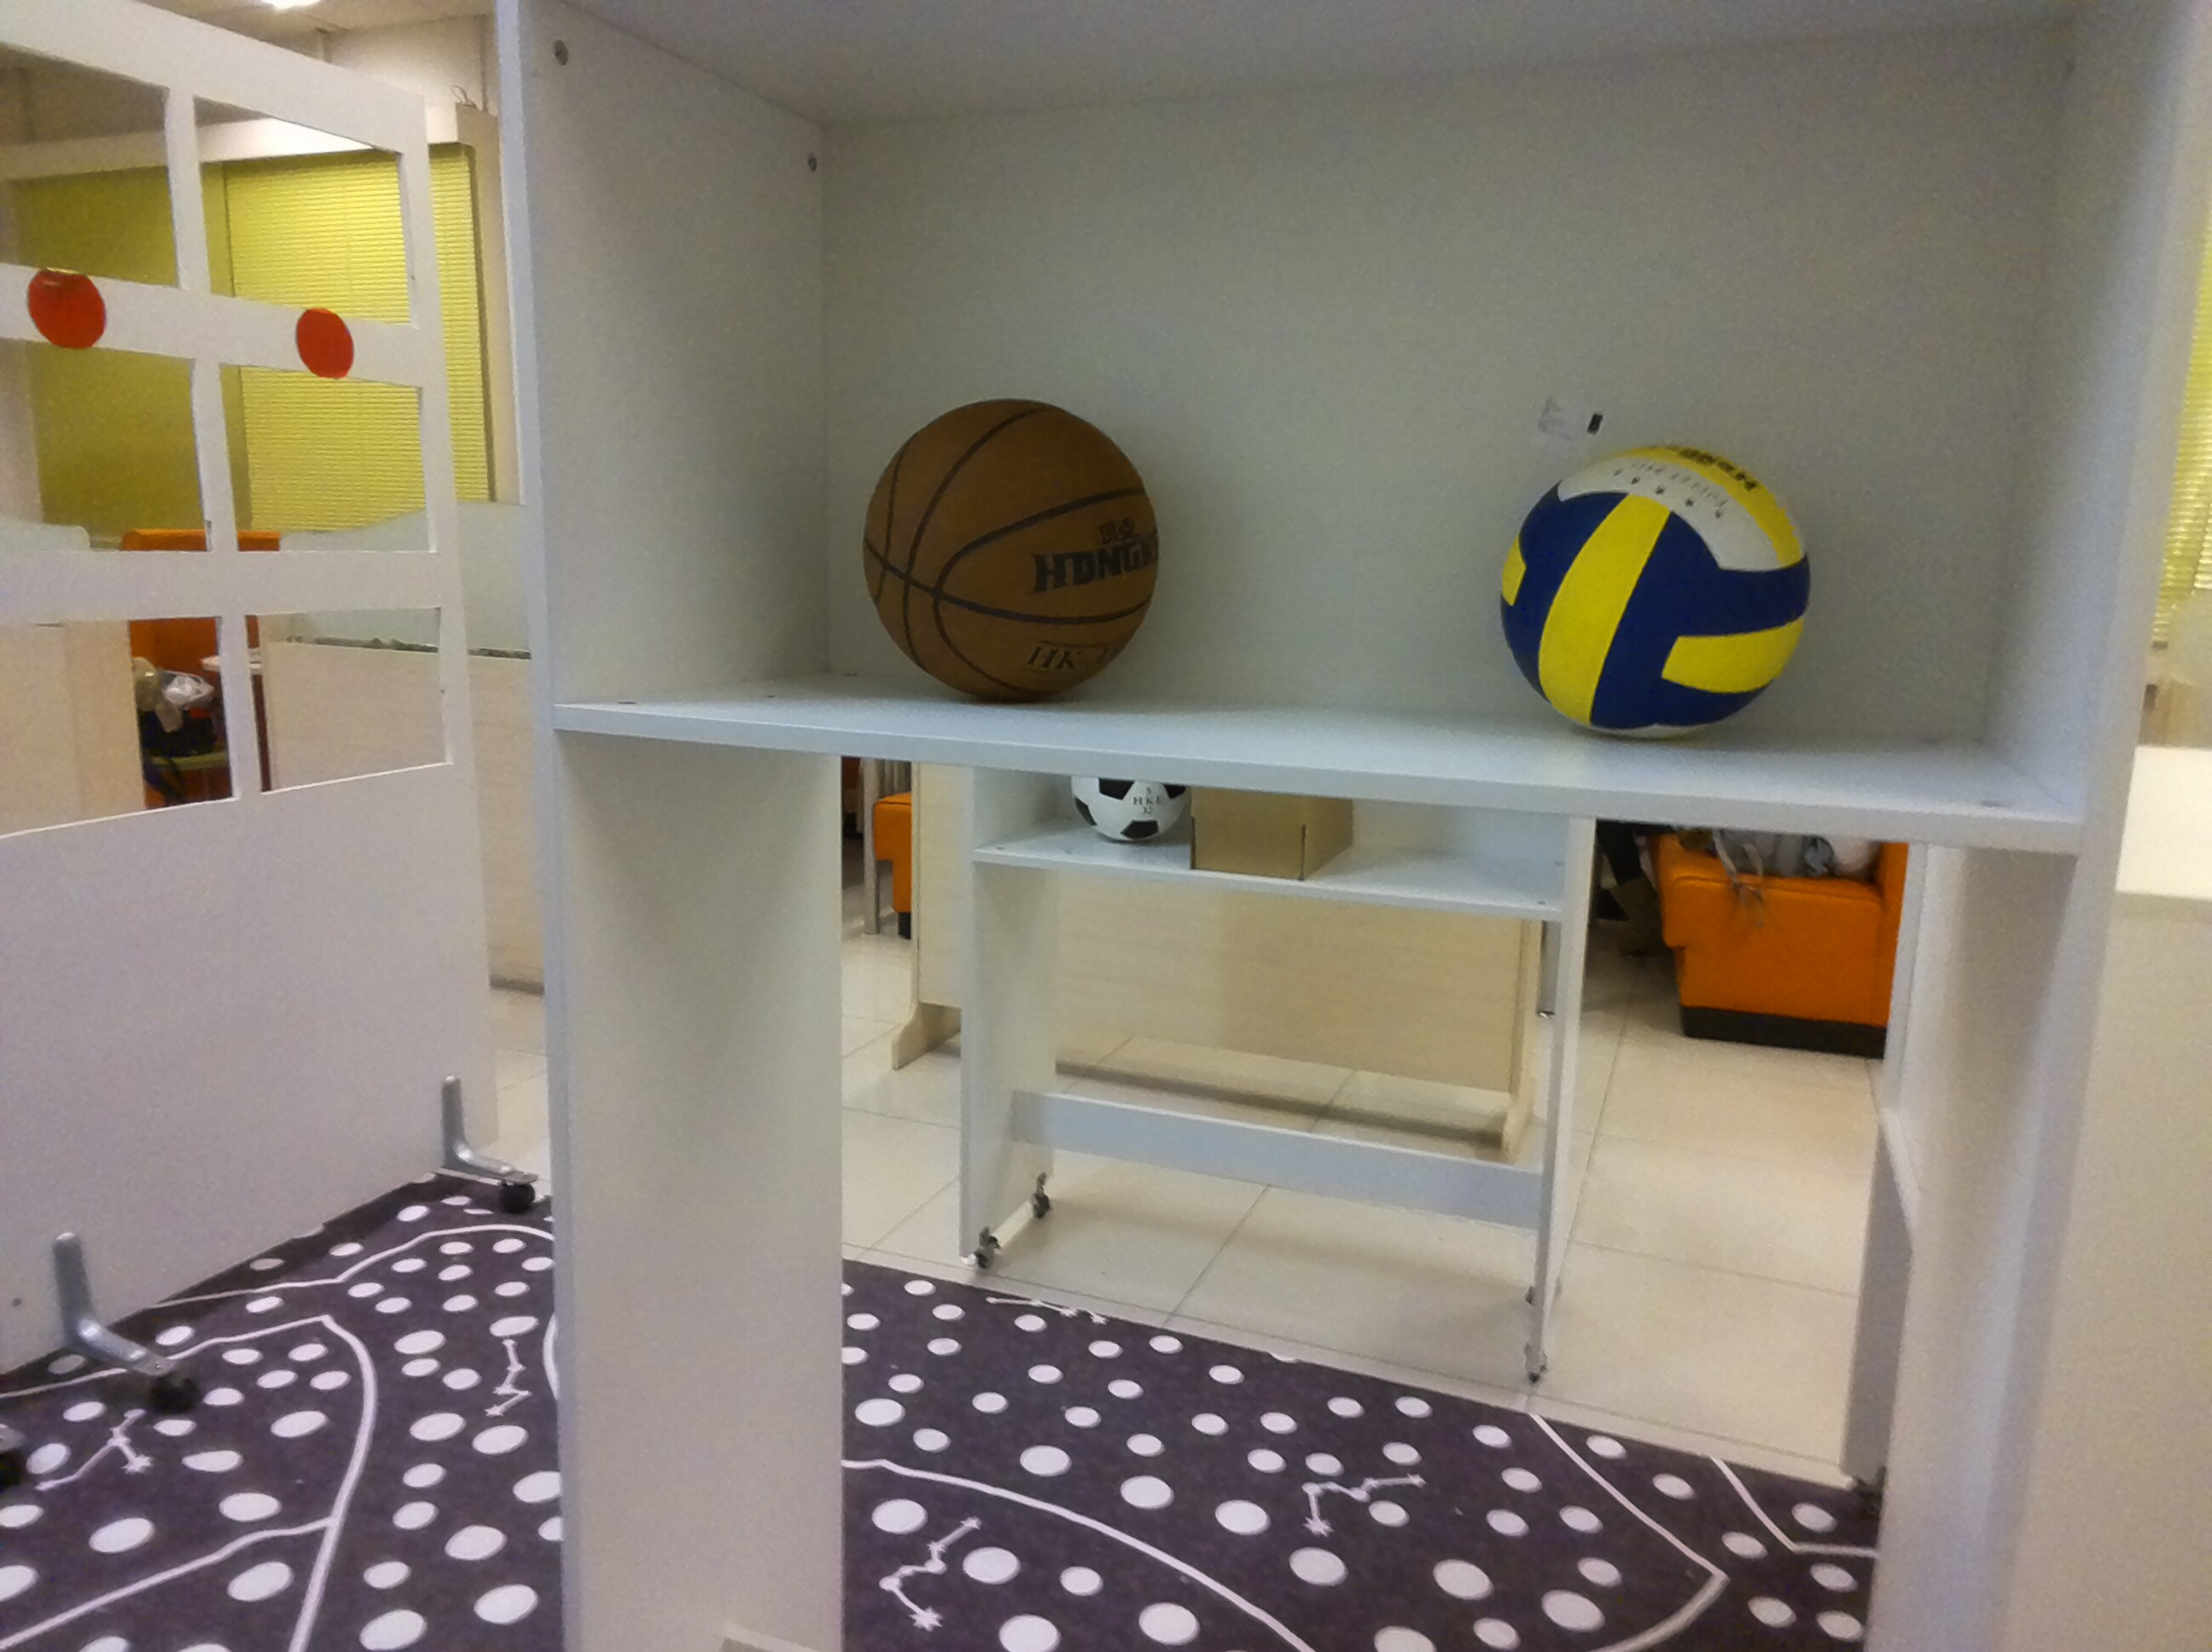basketball: (847, 387, 1185, 710)
volleyball: (1492, 432, 1825, 739)
